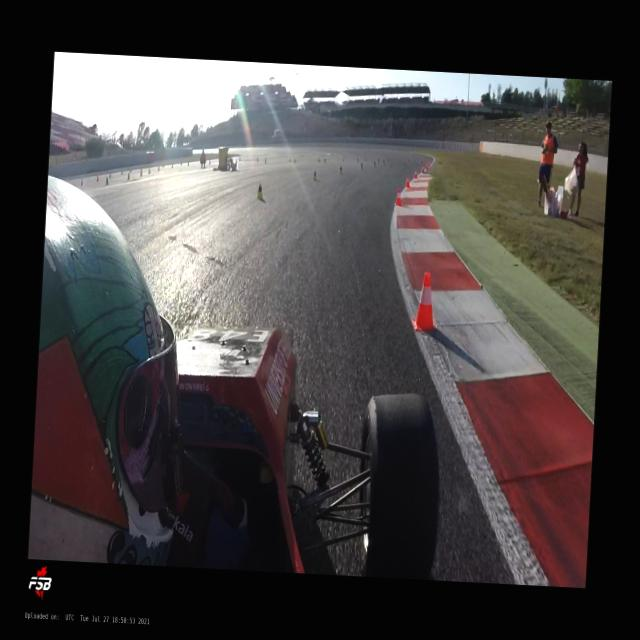orange_cone: (410, 271, 440, 332), (395, 188, 402, 205), (406, 175, 410, 187), (96, 174, 100, 182), (415, 170, 418, 179), (81, 178, 84, 186), (422, 165, 424, 173)
yellow_cone: (256, 182, 264, 200), (313, 170, 317, 181), (339, 166, 343, 175), (361, 162, 364, 170), (372, 161, 376, 167), (382, 160, 386, 164)
